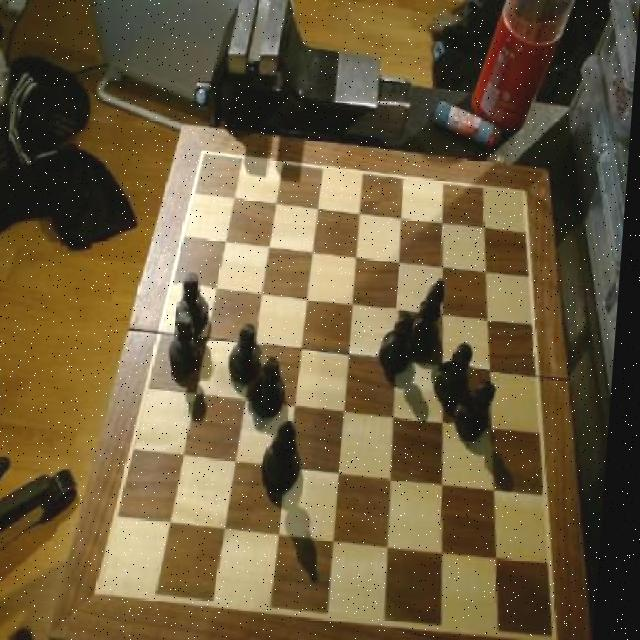bishop: (412, 274, 456, 359), (265, 417, 311, 498)
black-knight: (458, 377, 506, 443), (434, 342, 480, 410), (251, 355, 293, 428), (379, 309, 420, 375), (231, 320, 269, 388), (170, 312, 208, 380), (180, 275, 216, 334)
